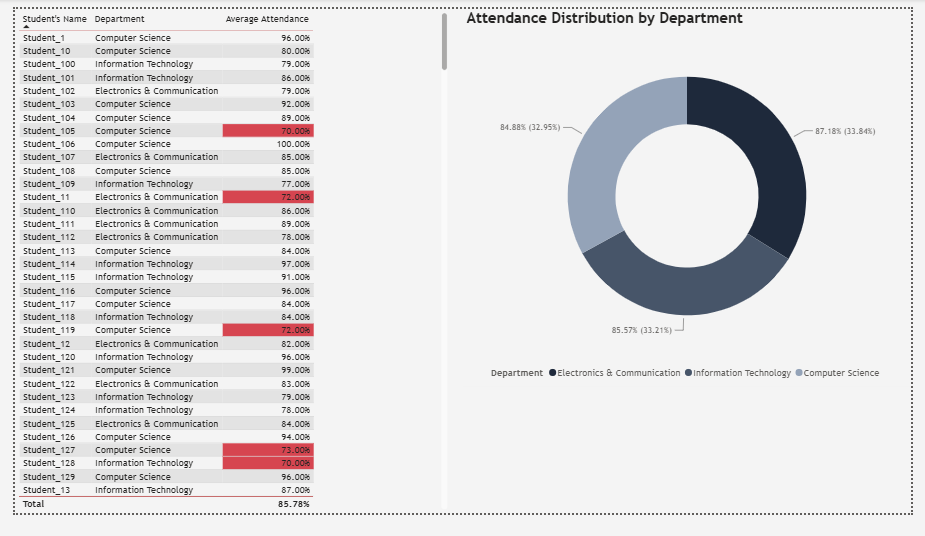

The dashboard page shown, as its layout file describes it:
{"tool":"powerbi","page":{"name":"Attendance Analysis","canvas":[1280,720],"ordinal":2},"visuals":[{"type":"tableEx","fields":{"Values":["dim_student.Student's Name","dim_student.Department","_AllMeasures.Average Attendance"]},"box":[0,0,623.3,720],"z":0},{"type":"donutChart","title":"Attendance Distribution by Department","fields":{"Category":["dim_student.Department"],"Y":["_AllMeasures.Average Attendance"]},"box":[640,0,640,538.6],"z":1000}]}

Visuals, with their boxes in screenshot pixels (x1, y1, x2, y2), scaled from the page's 1280x720 canvas onto the 925x536 screenshot:
tableEx - dim_student.Student's Name x dim_student.Department: box=[0, 0, 450, 535]
"Attendance Distribution by Department" donutChart: box=[462, 0, 924, 401]
